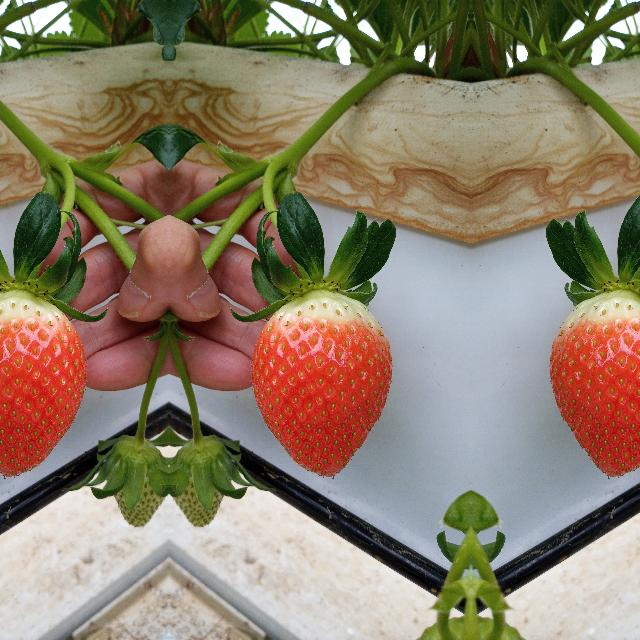Health_100: (248, 291, 392, 479), (549, 291, 640, 479), (0, 291, 88, 479)
Health_25: (80, 424, 164, 530), (172, 424, 255, 530)
